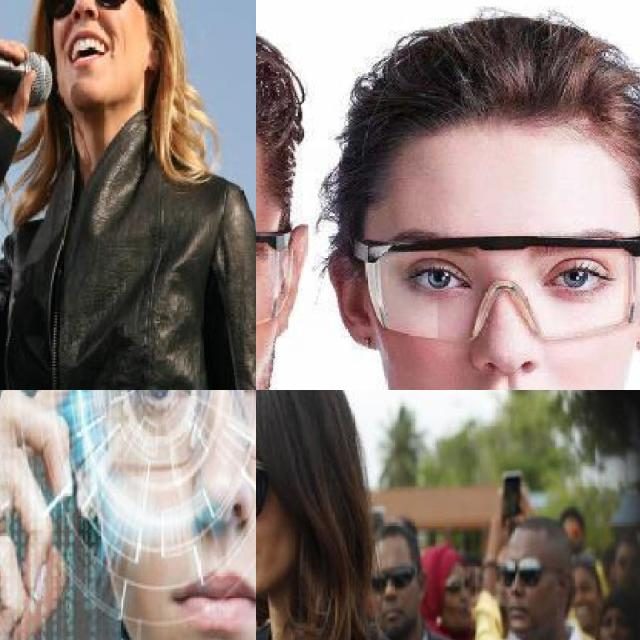face_nomask: (99, 390, 256, 640), (389, 237, 613, 390), (49, 0, 128, 82), (499, 557, 551, 631), (256, 466, 286, 588), (368, 567, 419, 628)
glasses: (256, 390, 422, 640), (347, 228, 640, 346), (77, 390, 256, 474), (489, 551, 570, 597), (37, 0, 163, 27), (256, 455, 296, 519), (366, 562, 424, 599)
hand_noglove: (0, 390, 92, 640), (0, 33, 37, 110)
head_nohelmet: (336, 2, 640, 187), (256, 390, 344, 436), (506, 510, 576, 550), (370, 513, 423, 551)
person: (0, 0, 256, 390), (452, 499, 629, 640)
